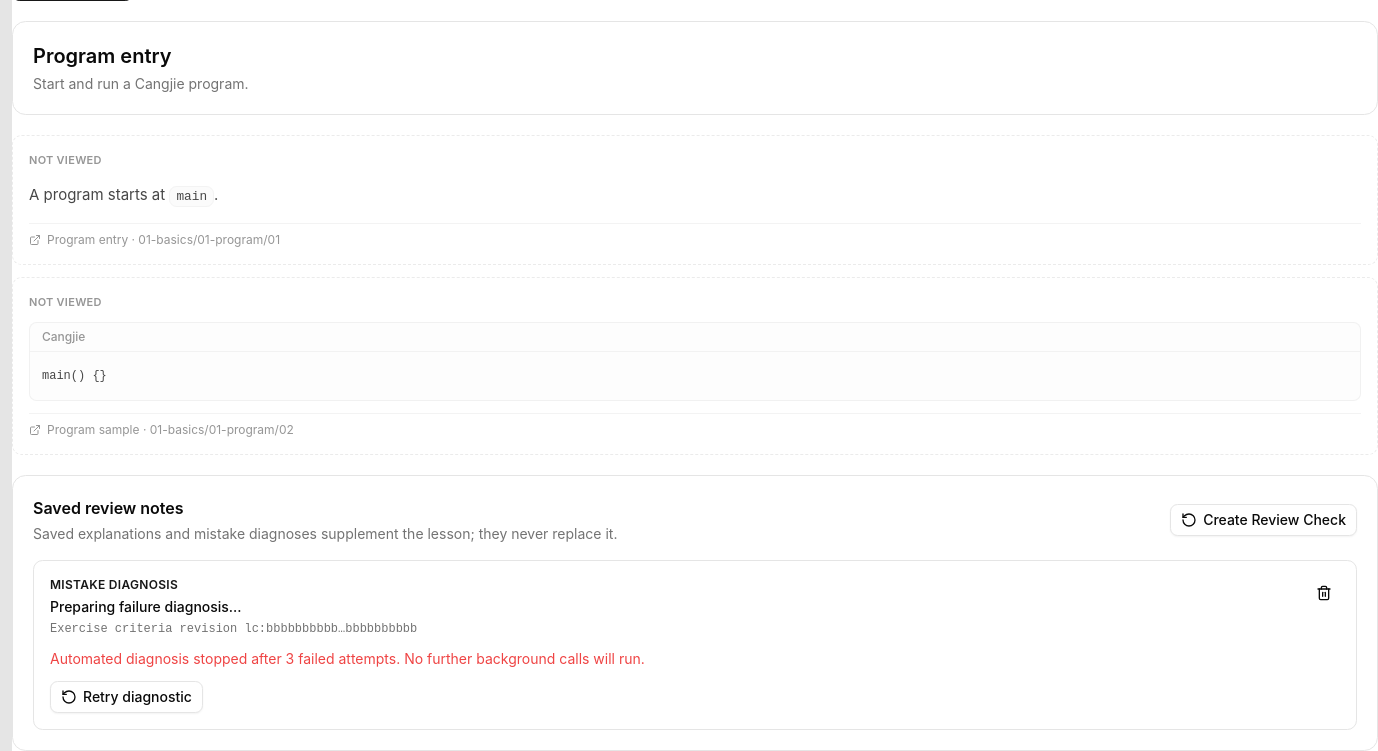
Test case: aI Classroom views › stops after three diagnostic failures and retries only after an explicit learner click
(page scrolled)
Expected: the text "Automated diagnosis stopped after 3 failed attempts" is shown, [50,650,645,667]
Click the button "Retry diagnostic".
click(126, 697)  # box [50,681,203,713]
(page scrolled)
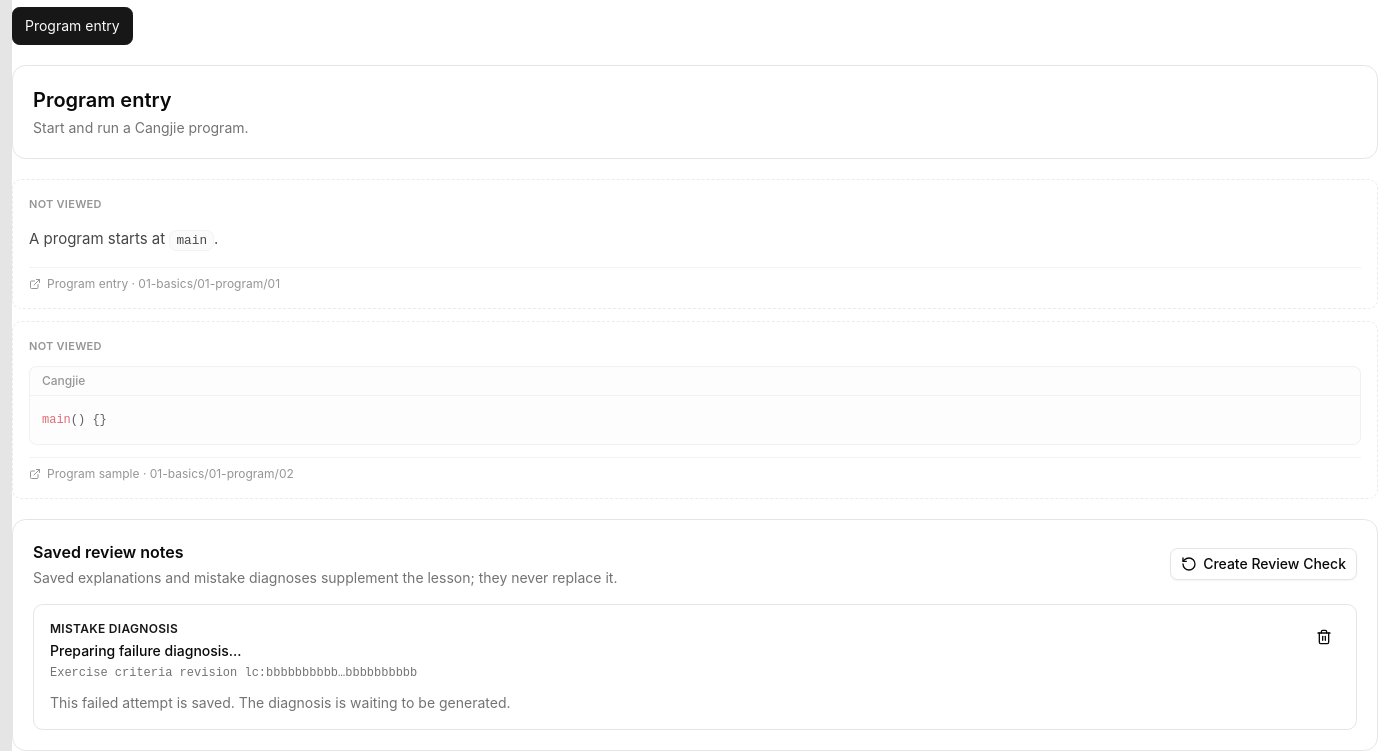
Expected: the text "This failed attempt is saved. The diagnosis is waiting to be generated." is shown, [50,694,510,711]
